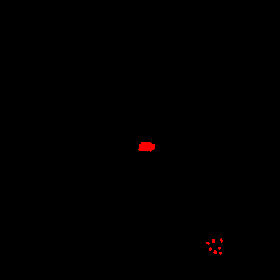Target: (138, 142, 155, 152), (213, 250, 217, 254), (220, 238, 223, 243), (212, 239, 215, 243), (206, 242, 210, 245), (209, 247, 212, 251), (218, 247, 221, 250), (219, 252, 222, 255)
